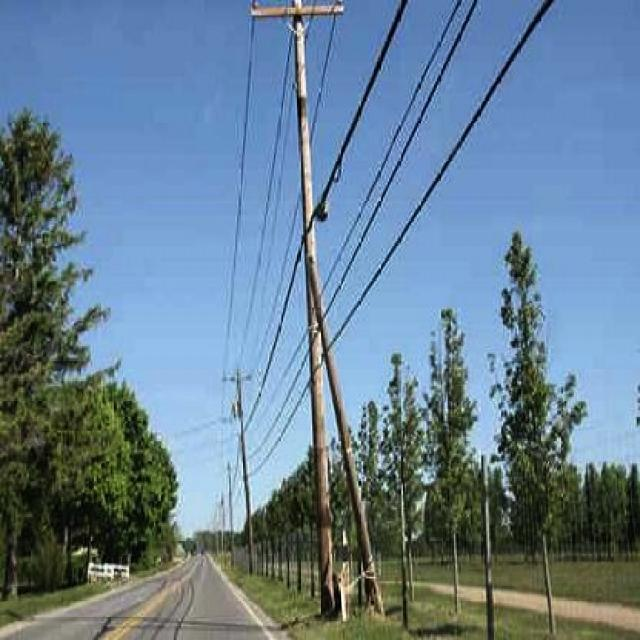crossarm: (247, 0, 346, 20)
pole: (287, 0, 348, 618)
wire: (224, 1, 558, 481), (224, 0, 479, 470), (252, 1, 464, 434), (212, 0, 410, 438), (256, 17, 338, 368), (238, 24, 296, 367), (220, 17, 261, 413)
